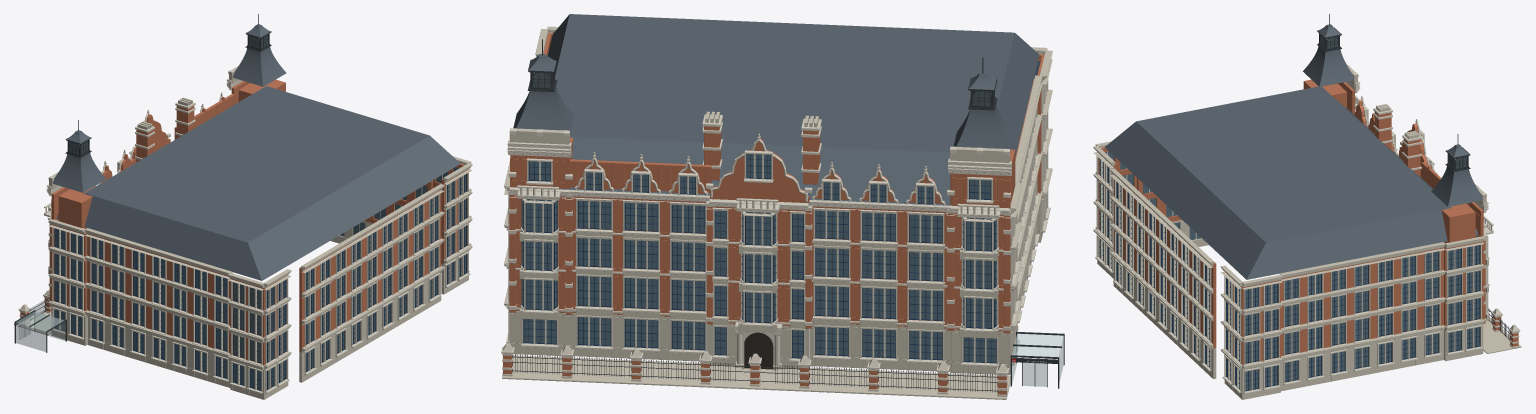
Rendered from sal-exterior-919180193501.glb.
3 views of the same model, side by side, from view 1: azimuth 30°, elevation 25°; view 2: azimuth 150°, elevation 25°; view 3: azimuth 270°, elevation 25° (orthographic). The views are drawn at different scales.
Parts seen in each view (by area): view 1: SAL.001; view 2: SAL.001; view 3: SAL.001.
Boxes of the visible parts, x1,y1,x2,y2 form: SAL.001: (14, 14, 472, 399); SAL.001: (501, 14, 1064, 399); SAL.001: (1093, 14, 1521, 399).
Bounding box in the file's own units: 68.11 × 33.89 × 61.15.
